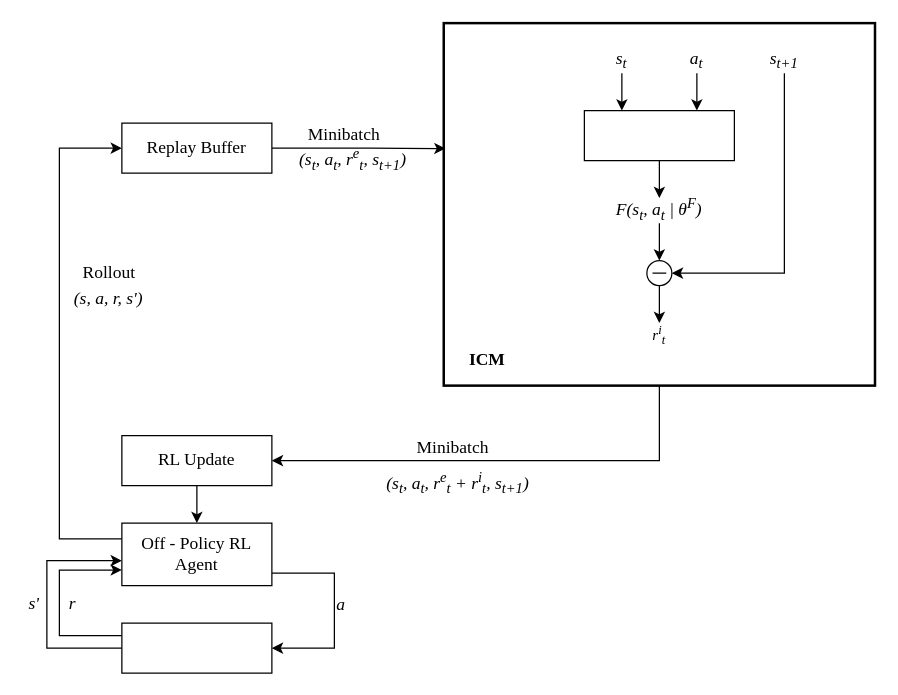
This 898x695 diagram has some shape labels left out. The shapes that lost their labels are listed below. From the top down, each one's centre as x and y in pixels, then its label:
[658,135]: Forward Model
[196,647]: Environment
